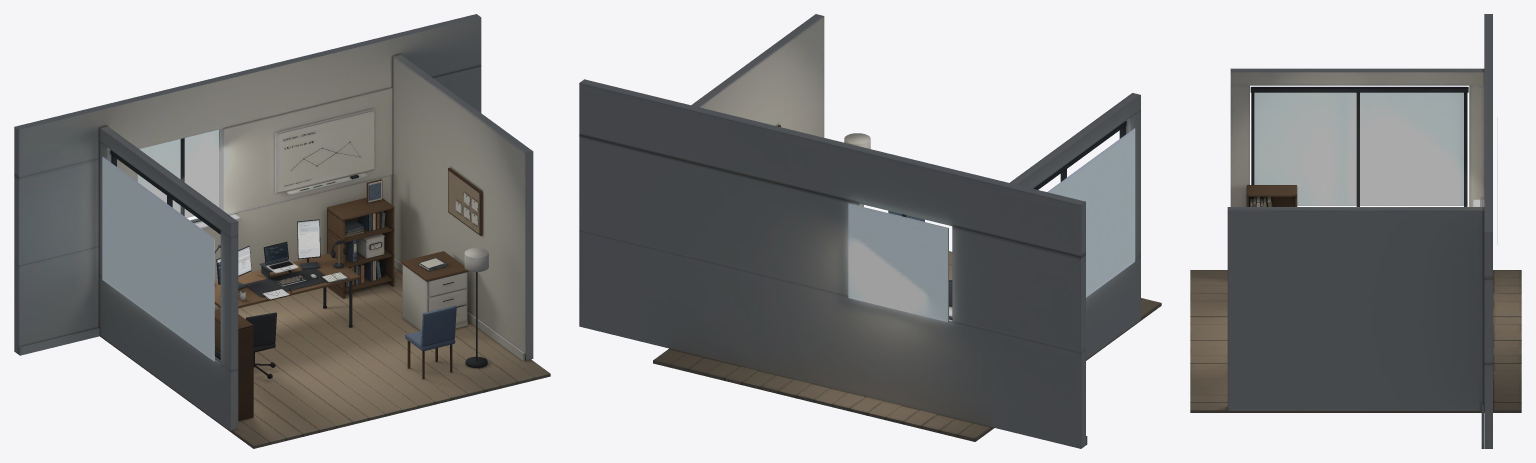
The model's file is study.glb.
3 views of the same model, side by side, from view 1: azimuth 30°, elevation 25°; view 2: azimuth 150°, elevation 25°; view 3: azimuth 270°, elevation 25° (orthographic). The views are drawn at different scales.
Visible parts, largest first — view 1: wall_back, room, wall_left, wall_right, topp, iris, animeko; view 2: wall_back, wall_left, wall_right, room; view 3: wall_right, wall_left, room, wall_back.
Part boxes in pixels (x1,y1,x2,y2): wall_back: (14, 14, 481, 355); room: (100, 197, 550, 448); wall_left: (99, 126, 238, 430); wall_right: (392, 54, 533, 361); topp: (297, 219, 320, 269); iris: (263, 241, 298, 273); animeko: (357, 233, 384, 258); wall_back: (579, 79, 1087, 448); wall_left: (1010, 93, 1140, 359); wall_right: (691, 14, 824, 137); room: (653, 133, 1161, 441); wall_right: (1227, 207, 1484, 410); wall_left: (1230, 68, 1484, 206); room: (1190, 185, 1521, 412); wall_back: (1473, 14, 1497, 448).
Bounding box in the file's own units: 7 × 3.29 × 4.5.
Materials: 1 (1 with a texture image).
